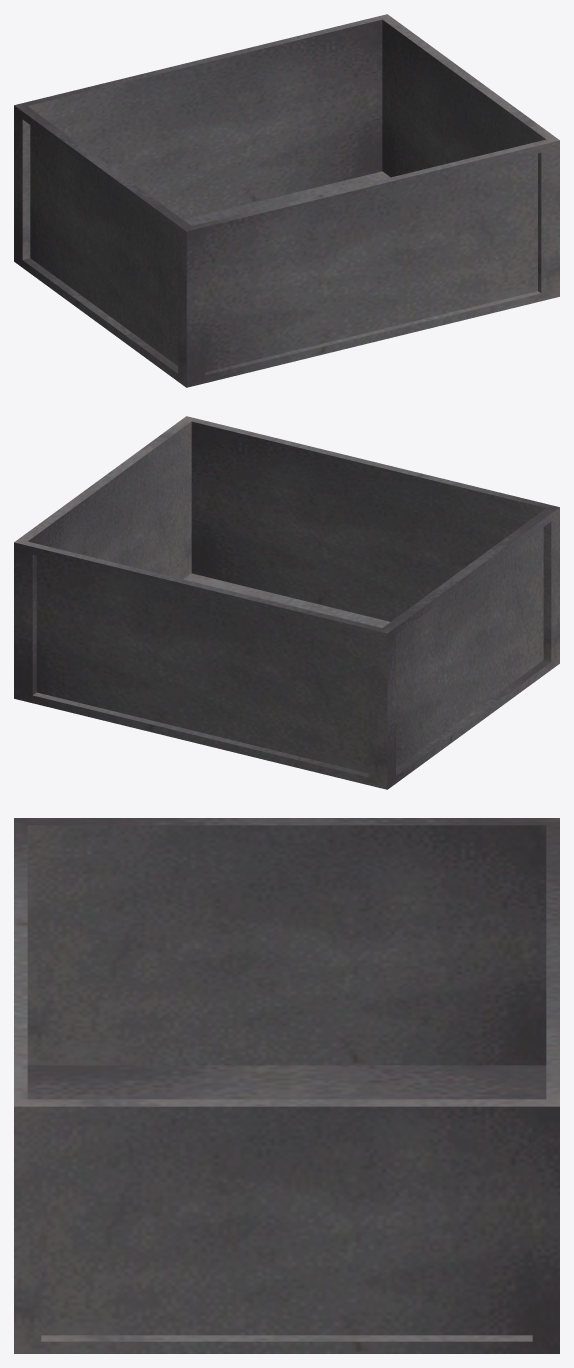
Rendered from SM_Metal_Create_01_Chest.fbx.
3 views of the same model, one above another, from view 1: azimuth 30°, elevation 25°; view 2: azimuth 150°, elevation 25°; view 3: azimuth 270°, elevation 25° (orthographic). The views are drawn at different scales.
Parts seen in each view (by area): view 1: SM_Metal_Create_01_Chest; view 2: SM_Metal_Create_01_Chest; view 3: SM_Metal_Create_01_Chest.
Boxes of the visible parts, x1,y1,x2,y2 form: SM_Metal_Create_01_Chest: (14,14,559,387); SM_Metal_Create_01_Chest: (14,416,559,789); SM_Metal_Create_01_Chest: (14,818,559,1353).
Bounding box in the file's own units: 200 × 80 × 160.
